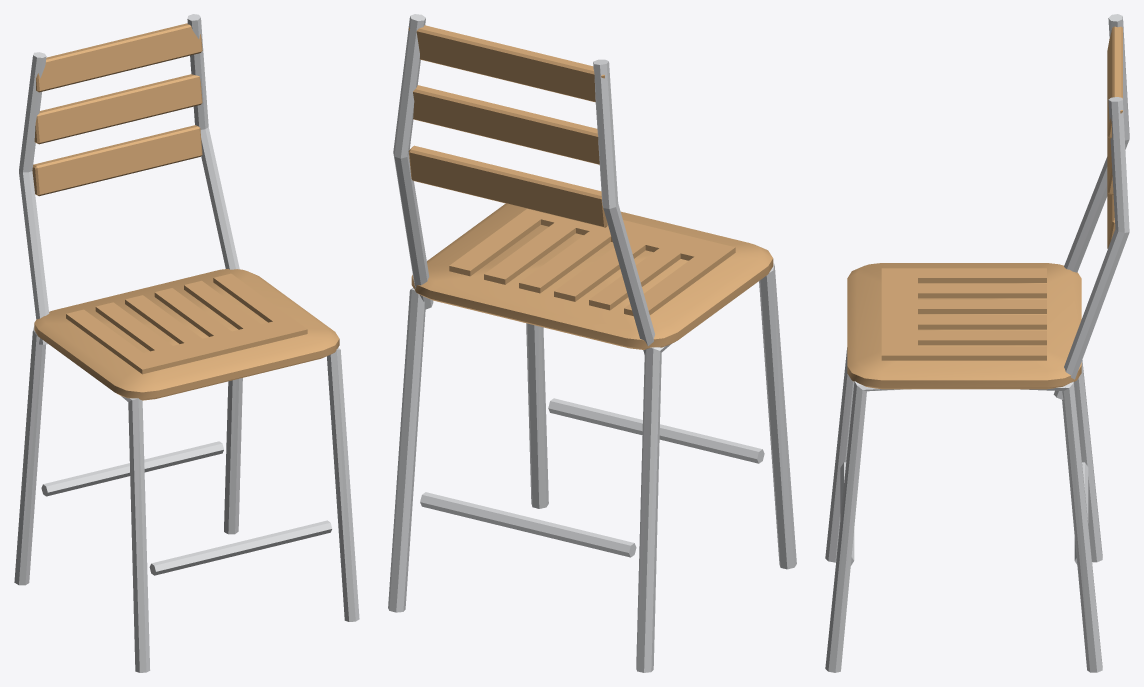
The model's file is bakery-and-cafe-cafe-chair-metal-715b44a9__22208.glb.
3 views of the same model, side by side, from view 1: azimuth 30°, elevation 25°; view 2: azimuth 150°, elevation 25°; view 3: azimuth 270°, elevation 25° (orthographic). The views are drawn at different scales.
Visible parts, largest first — view 1: cafe-chair-metal; view 2: cafe-chair-metal; view 3: cafe-chair-metal.
Boxes of the visible parts, x1=… form: cafe-chair-metal: x1=14, y1=14, x2=359, y2=672; cafe-chair-metal: x1=388, y1=14, x2=796, y2=672; cafe-chair-metal: x1=825, y1=14, x2=1129, y2=672.
Bounding box in the file's own units: 0.4034 × 0.8923 × 0.4418.
